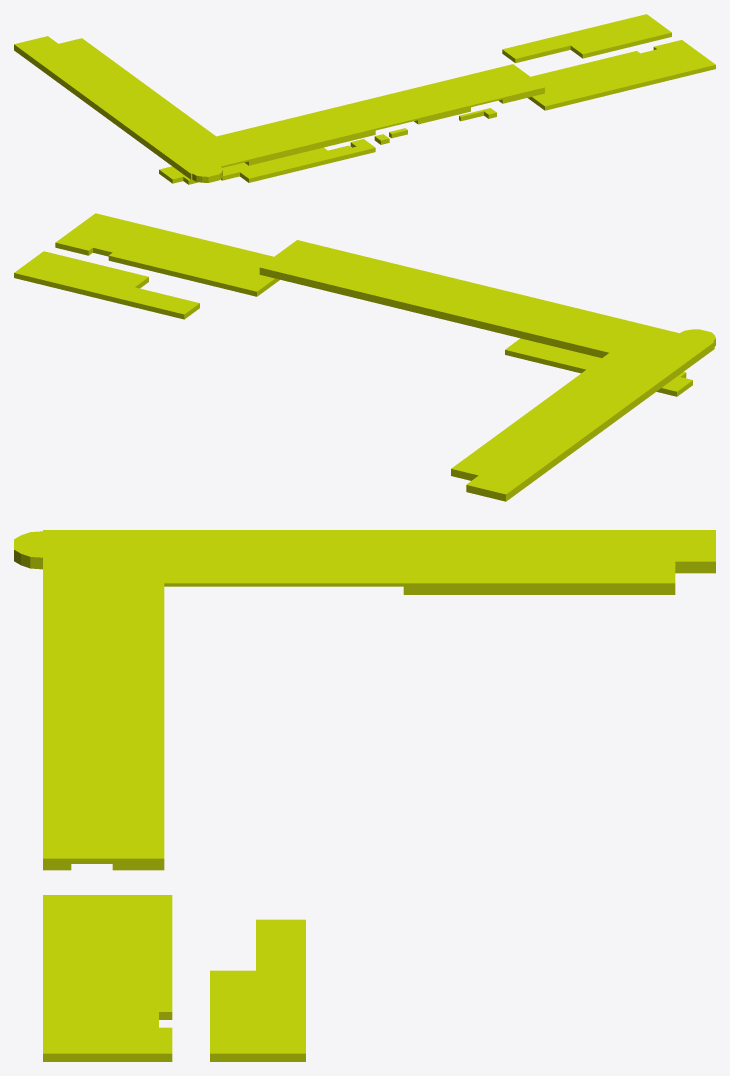
Rendered from Voids.glb.
3 renders of one model, top to bottom at view 1: azimuth 30°, elevation 25°; view 2: azimuth 150°, elevation 25°; view 3: azimuth 270°, elevation 25°, orthographic. The views are drawn at different scales.
Visible parts, largest first — view 1: Voids; view 2: Voids; view 3: Voids.
Part boxes in pixels (bbox=[...]): Voids: bbox=[14, 14, 715, 184]; Voids: bbox=[14, 213, 715, 501]; Voids: bbox=[14, 530, 715, 1061].
Size of the model in its own units: 112 by 4.75 by 68.
